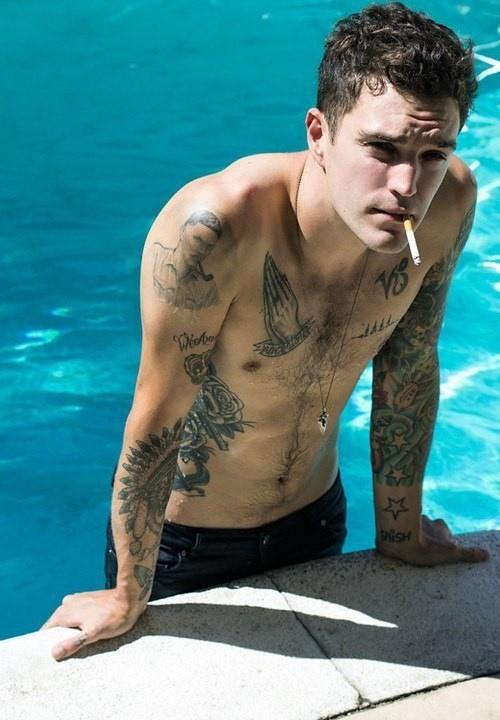cigarette: (404, 218, 420, 265)
